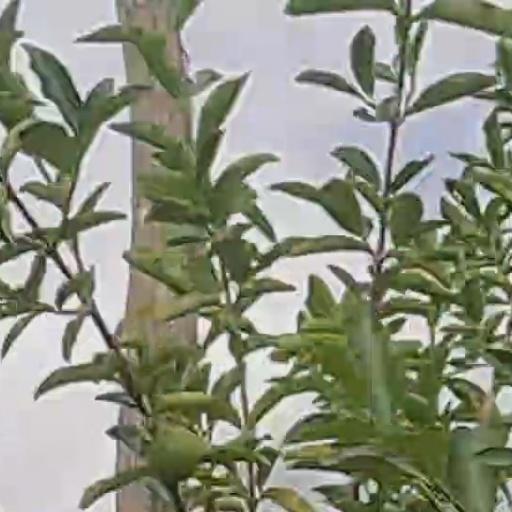acerola_verde: (152, 430, 198, 481)
